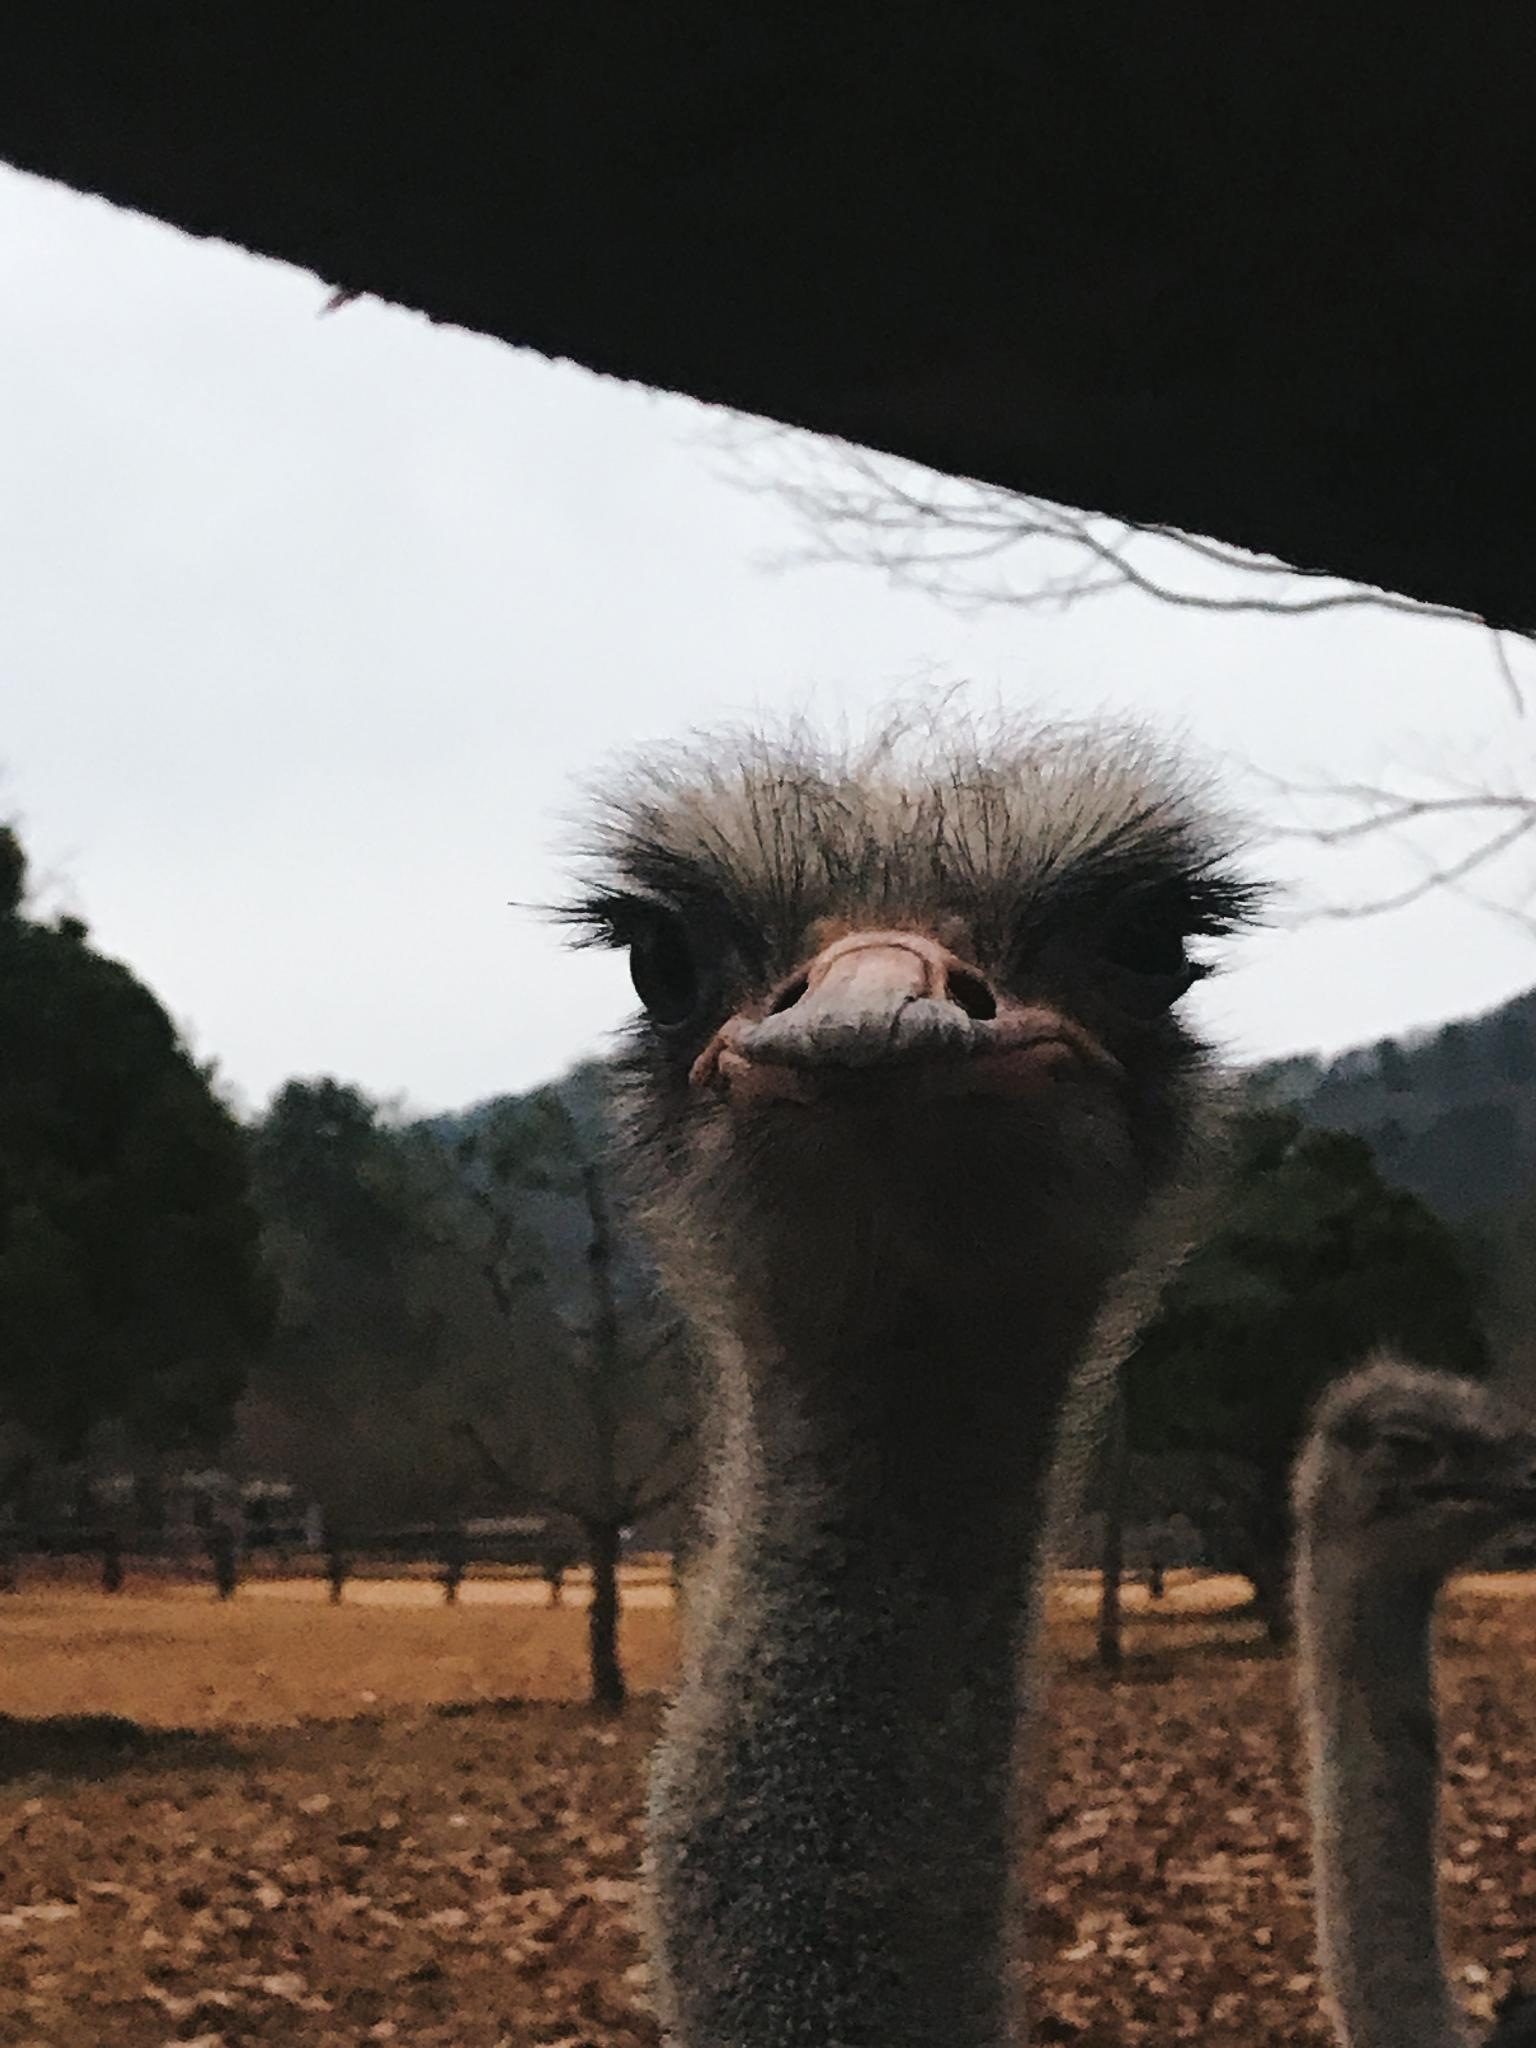ostrich: (516, 682, 1260, 2048), (1289, 1335, 1536, 2048)
